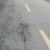others: (22, 1, 50, 50)
